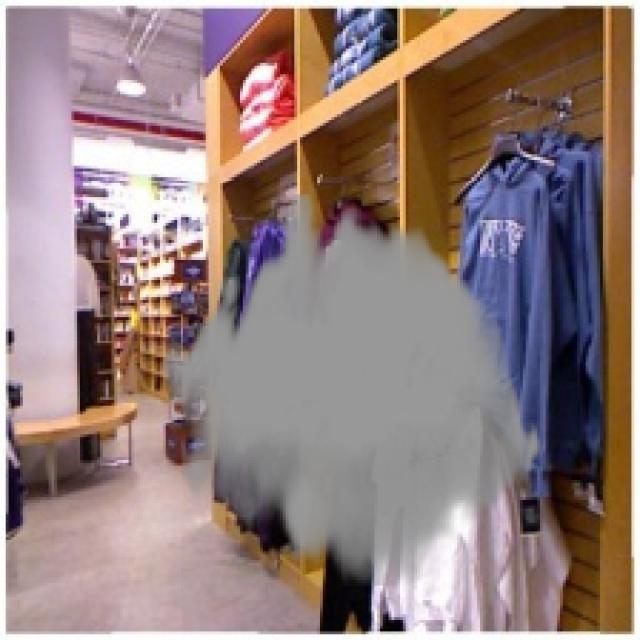Smoke: (160, 194, 543, 586)
